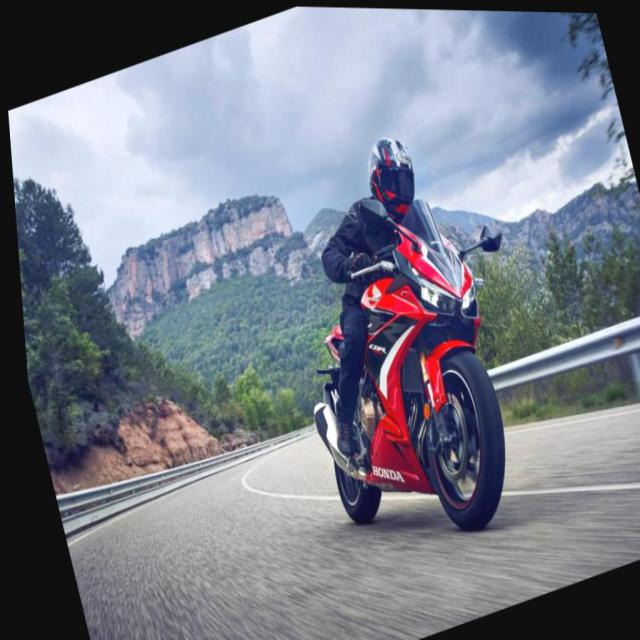CBR500R: (262, 149, 562, 576)
